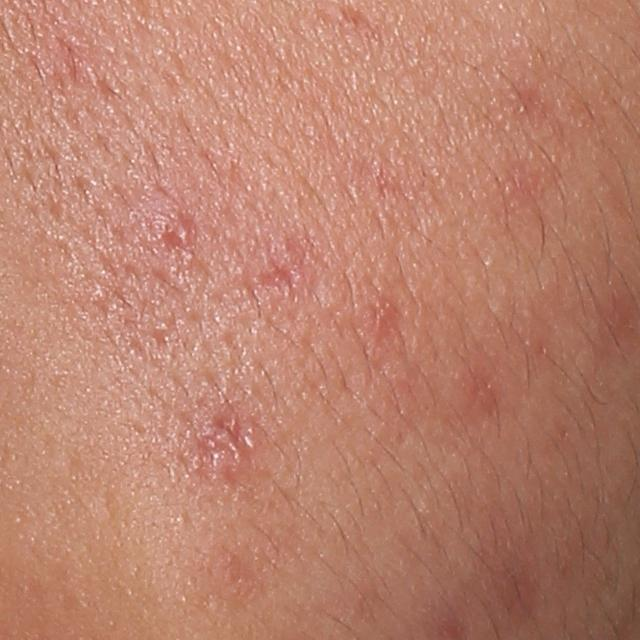papule: (160, 212, 197, 246)
